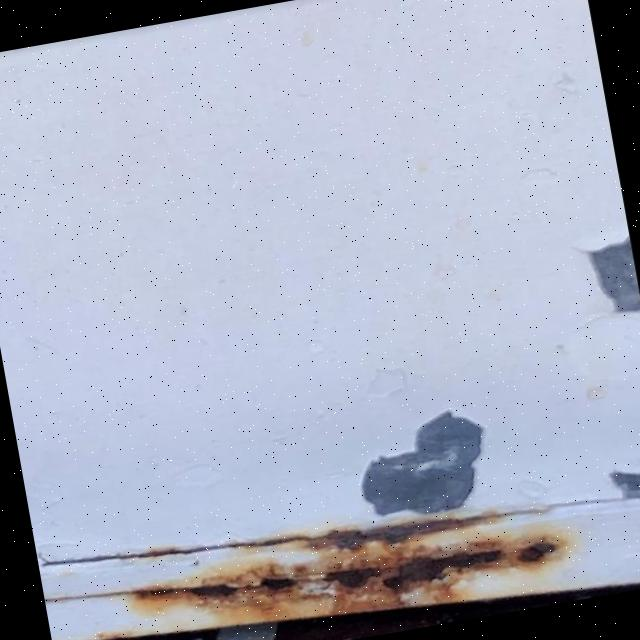Corrosion: (127, 508, 575, 640)
